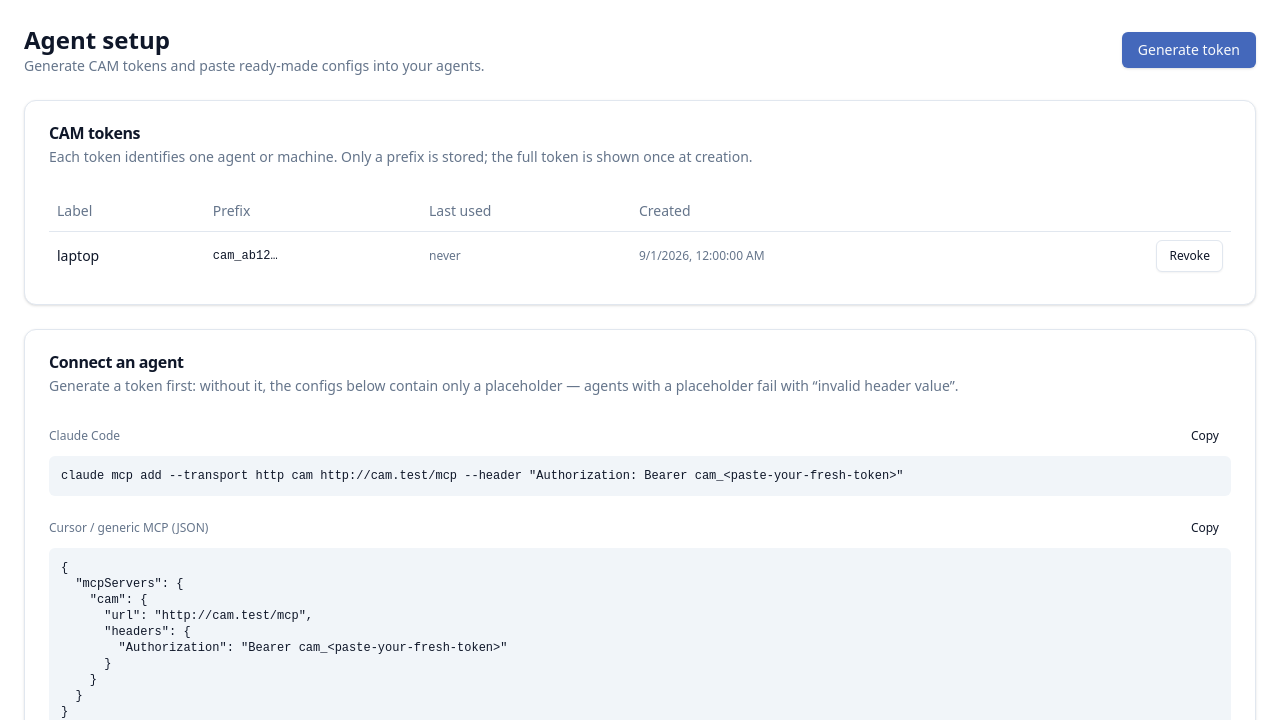
it: AgentSetupPage › shows the raw token once after creating it
The image size is (1280, 720).
Expected: the text "laptop" is shown, [49, 231, 205, 280]
Click the button "Generate token": (1189,50) [1122, 32, 1256, 68]
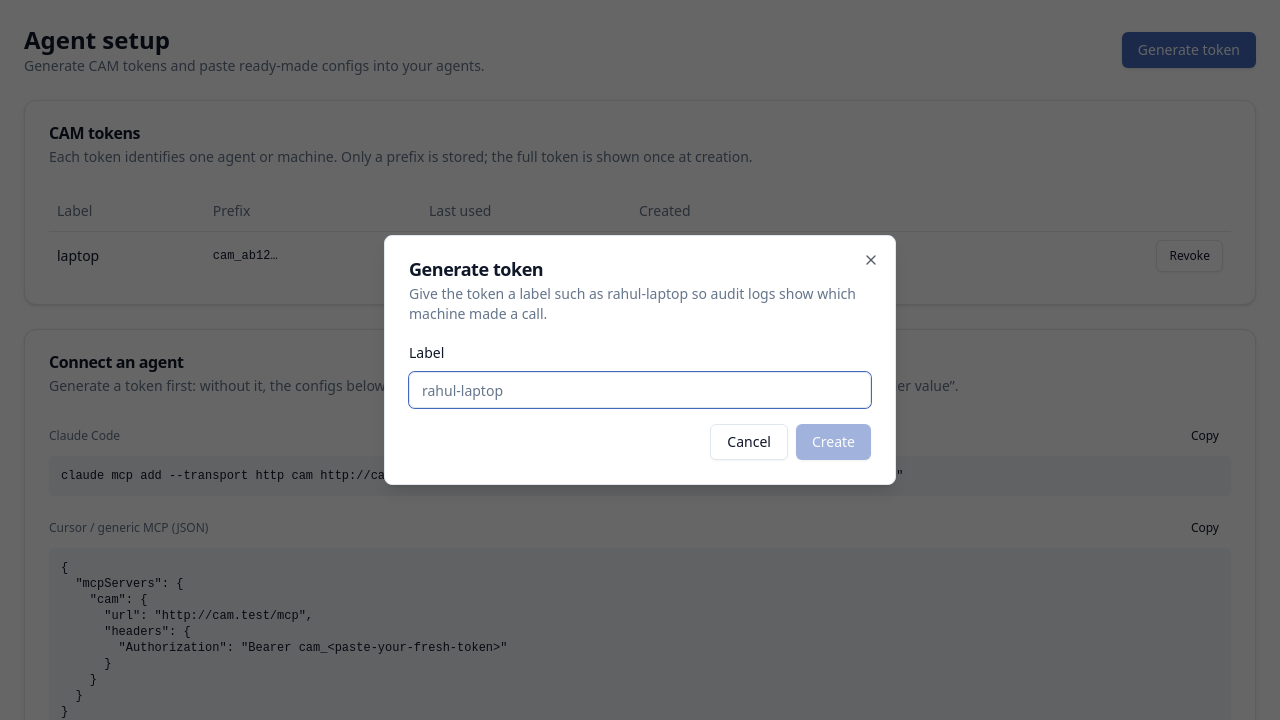
In the field labelled "Label": (640,390) [409, 372, 871, 408], type "new-agent"
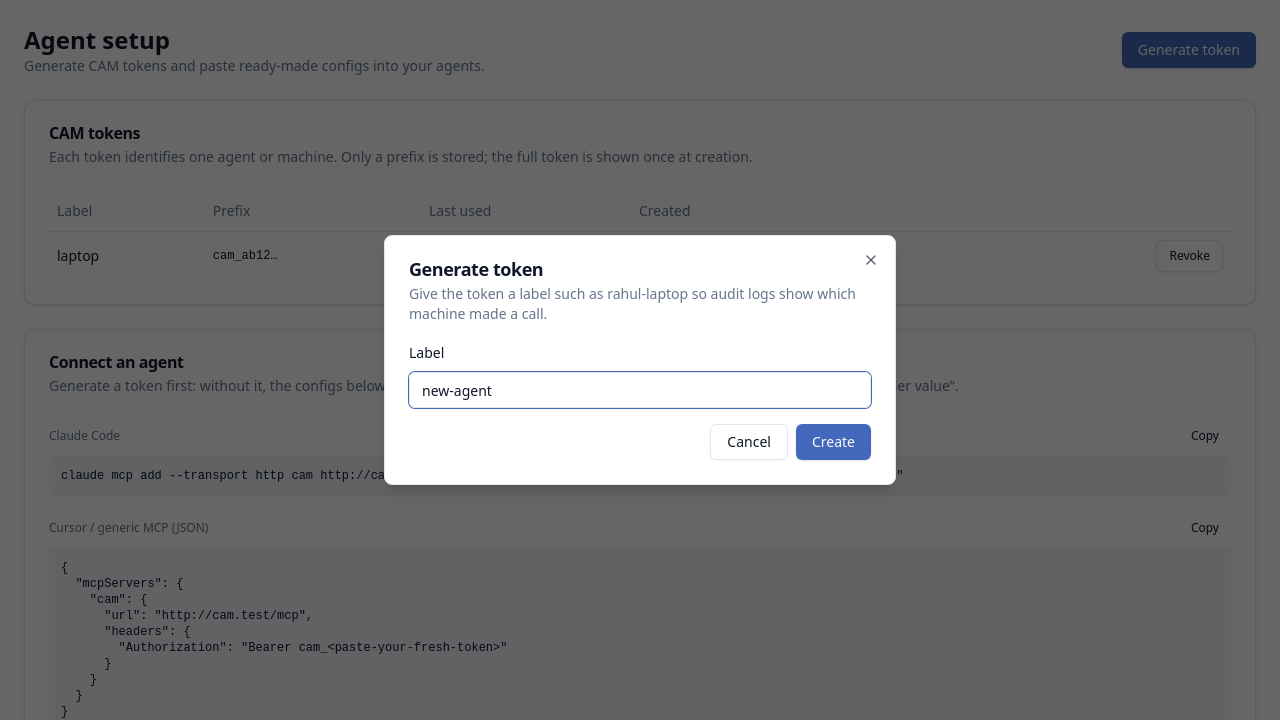
Click the button "Create": (833,442) [796, 424, 871, 460]
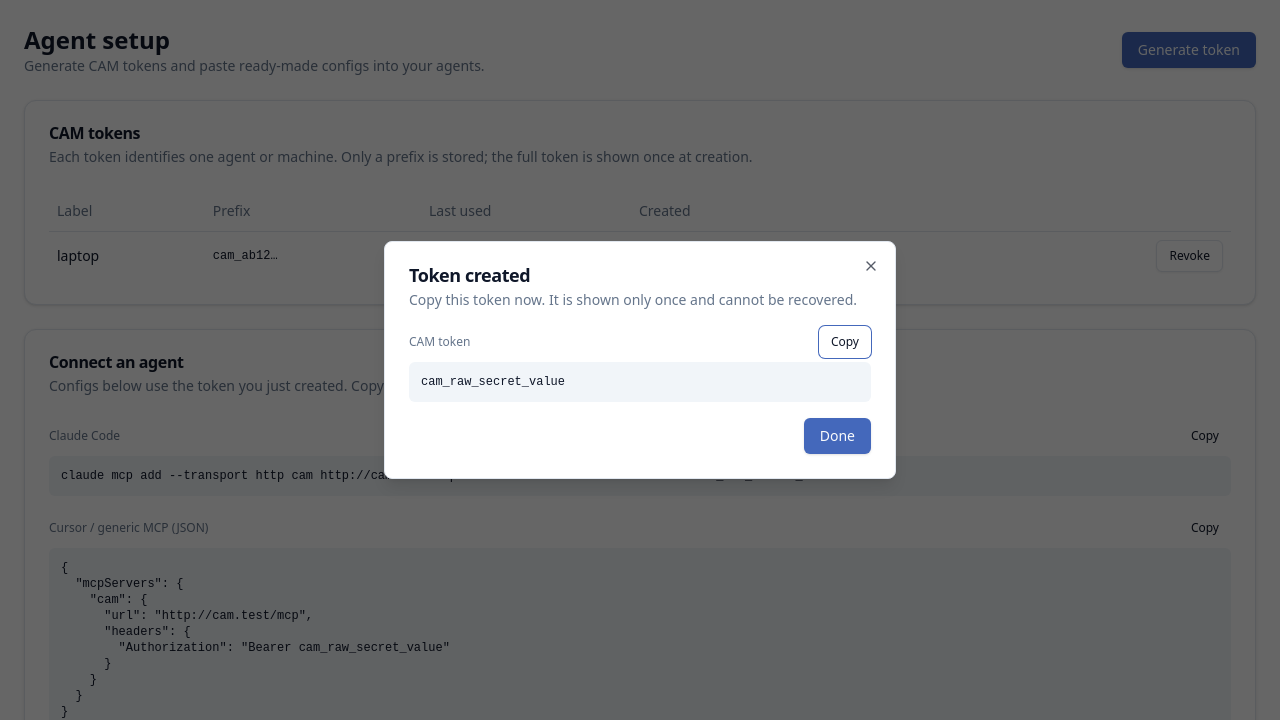
Result: the text "cam_raw_secret_value" is shown at [409, 362, 871, 402]
Result: the text "shown only once" is shown at [409, 290, 857, 309]
